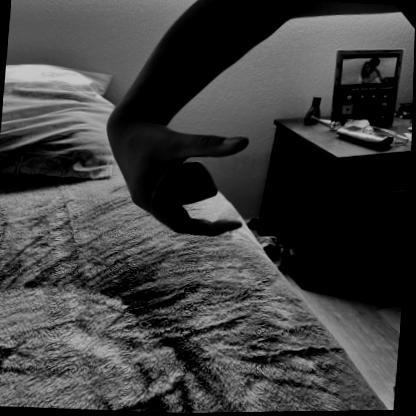G: (104, 122, 257, 247)
